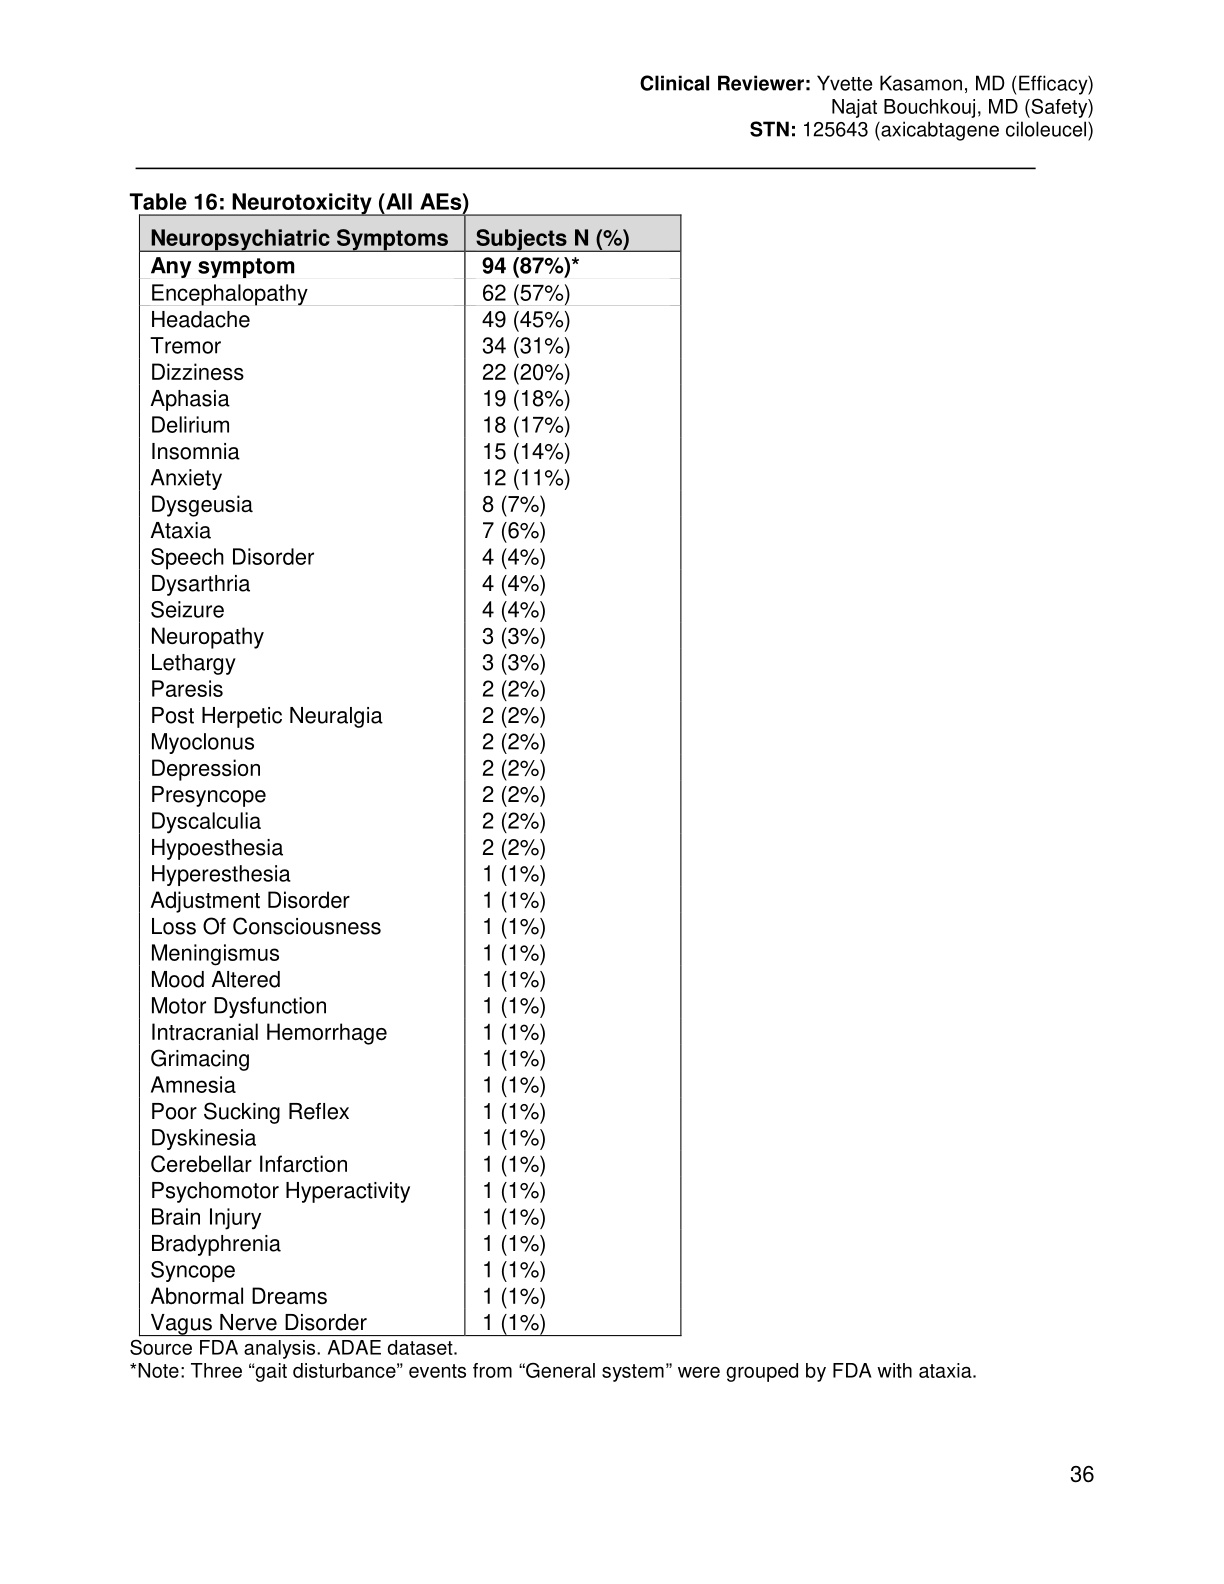partial_lined: (138, 213, 683, 1337)
